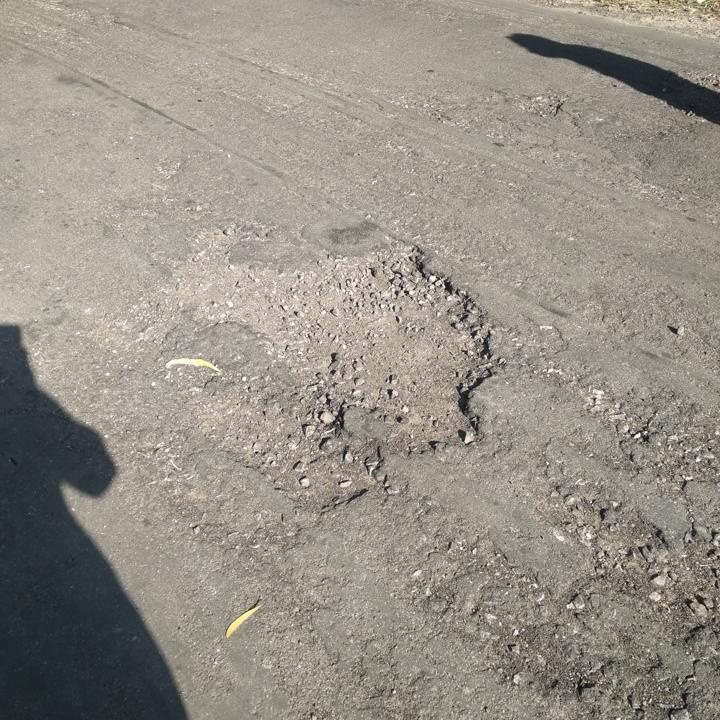pothole: (133, 221, 503, 514)
